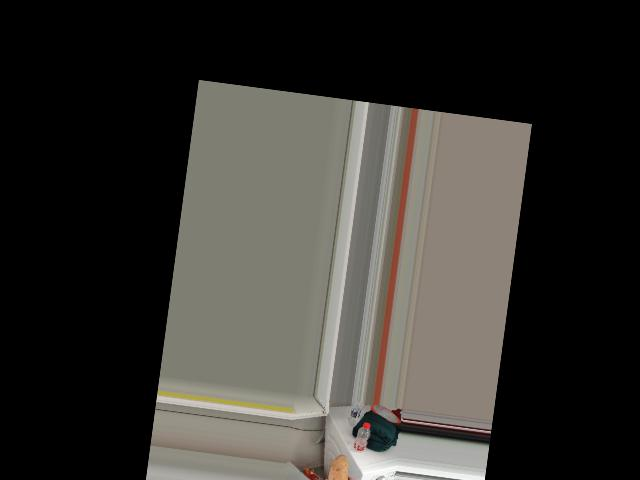sweet_potato: (323, 459, 351, 480)
